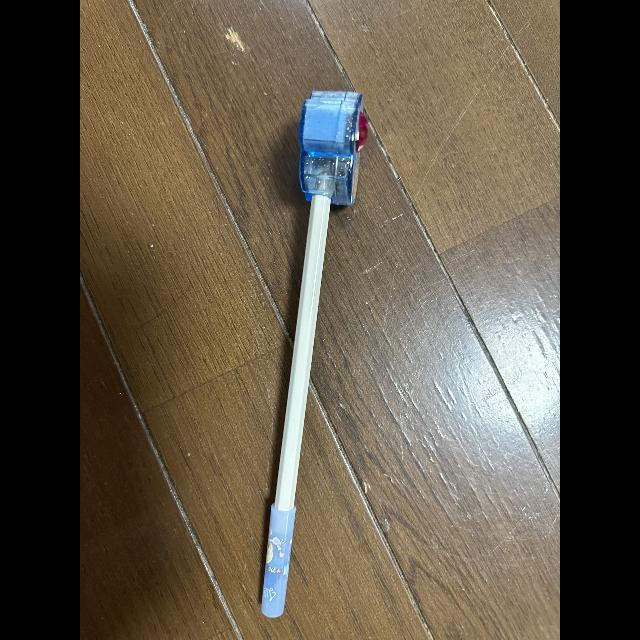pencil: (263, 195, 331, 624)
